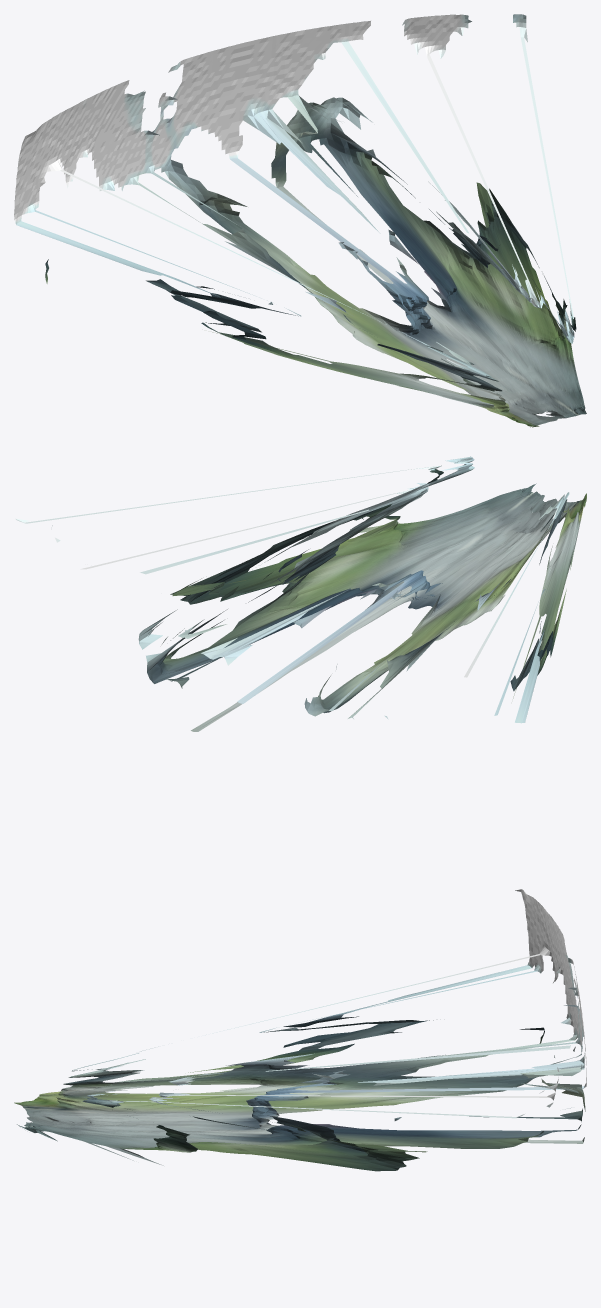
3 views of the same model, one above another, from view 1: azimuth 30°, elevation 25°; view 2: azimuth 150°, elevation 25°; view 3: azimuth 270°, elevation 25° (orthographic). The views are drawn at different scales.
Parts seen in each view (by area): view 1: defaultobject; view 2: defaultobject; view 3: defaultobject.
Part boxes in pixels (bbox=[...]): defaultobject: bbox=[14, 14, 586, 427]; defaultobject: bbox=[15, 456, 586, 731]; defaultobject: bbox=[14, 889, 586, 1171].
Size of the model in its own units: 40.84 by 24.97 by 45.36.
Materials: 1 (1 with a texture image).
